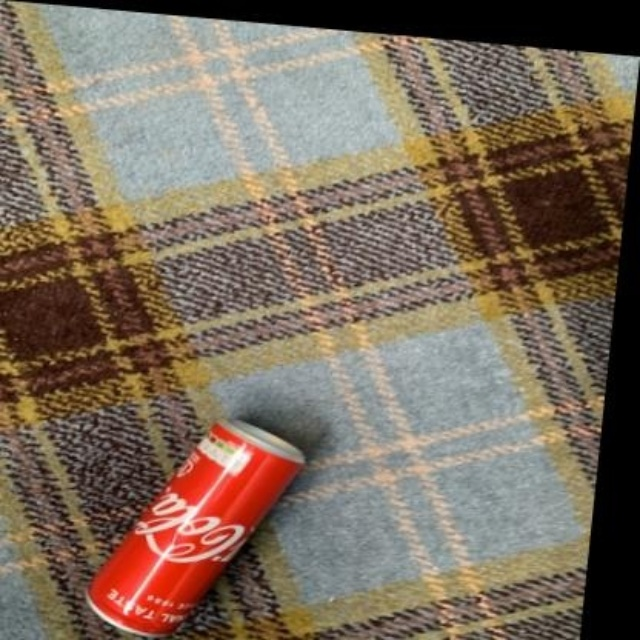trash: (88, 420, 303, 635)
